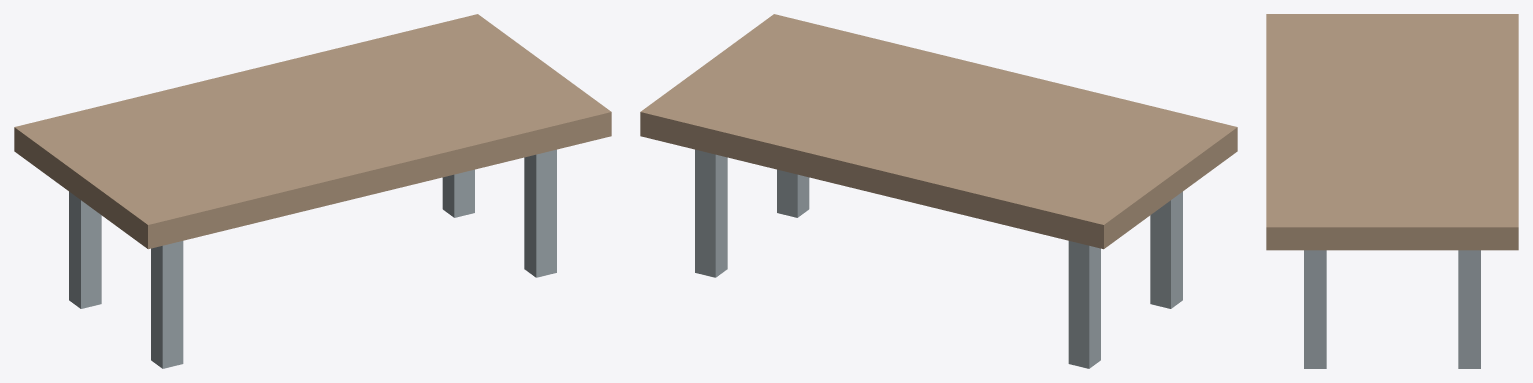
Rendered from desk_lod0.glb.
3 views of the same model, side by side, from view 1: azimuth 30°, elevation 25°; view 2: azimuth 150°, elevation 25°; view 3: azimuth 270°, elevation 25° (orthographic). The views are drawn at different scales.
Visible parts, largest first — view 1: desk-node-0, desk-node-3, desk-node-4, desk-node-1, desk-node-2; view 2: desk-node-0, desk-node-1, desk-node-2, desk-node-3, desk-node-4; view 3: desk-node-0, desk-node-2, desk-node-4.
Boxes of the visible parts, x1,y1,x2,y2 form: desk-node-0: (14,14,611,249); desk-node-3: (151,241,183,368); desk-node-4: (524,149,556,277); desk-node-1: (69,191,101,308); desk-node-2: (442,169,474,217); desk-node-0: (640,14,1237,249); desk-node-1: (1068,241,1100,368); desk-node-2: (695,149,727,277); desk-node-3: (1150,191,1182,308); desk-node-4: (777,169,809,217); desk-node-0: (1266,14,1518,250); desk-node-2: (1458,250,1480,368); desk-node-4: (1304,250,1326,368).
Size of the model in its own units: 3.6 by 1.24 by 1.8.
